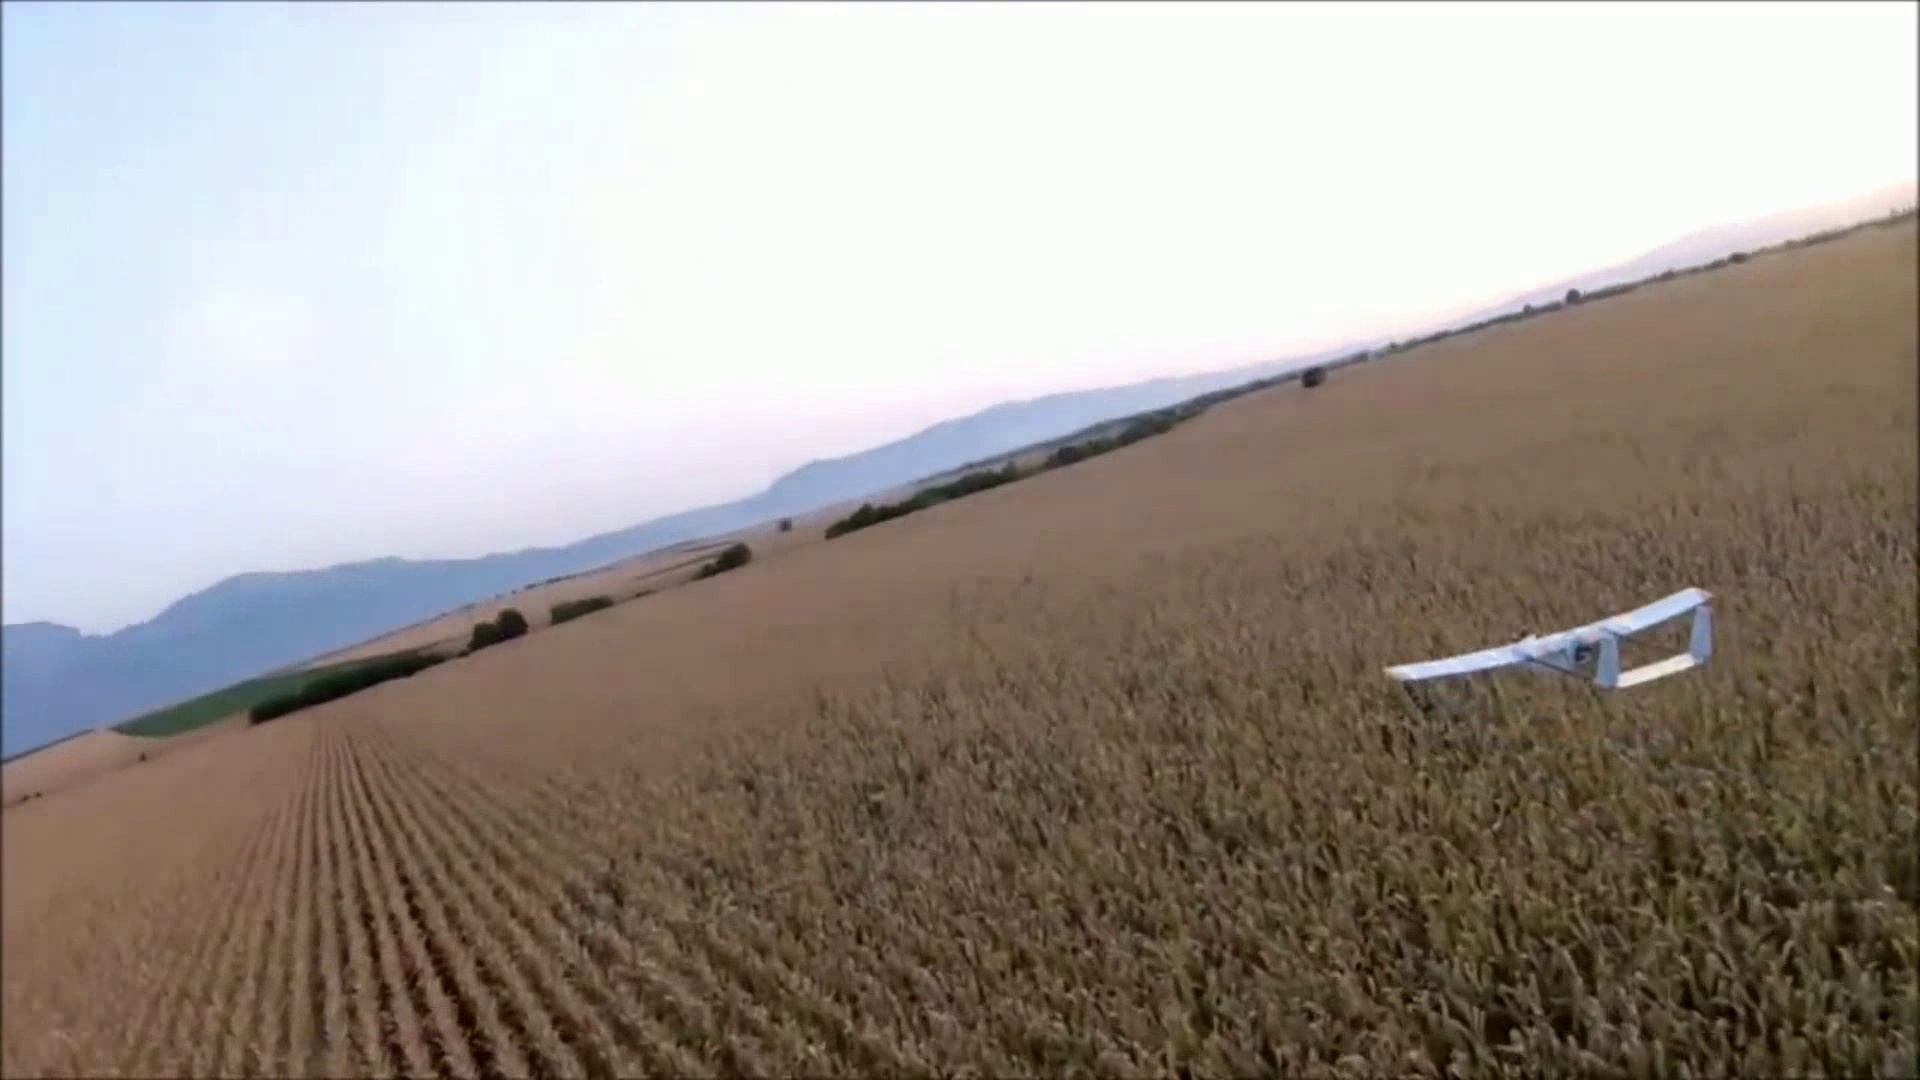airplane: (1389, 587, 1716, 694)
